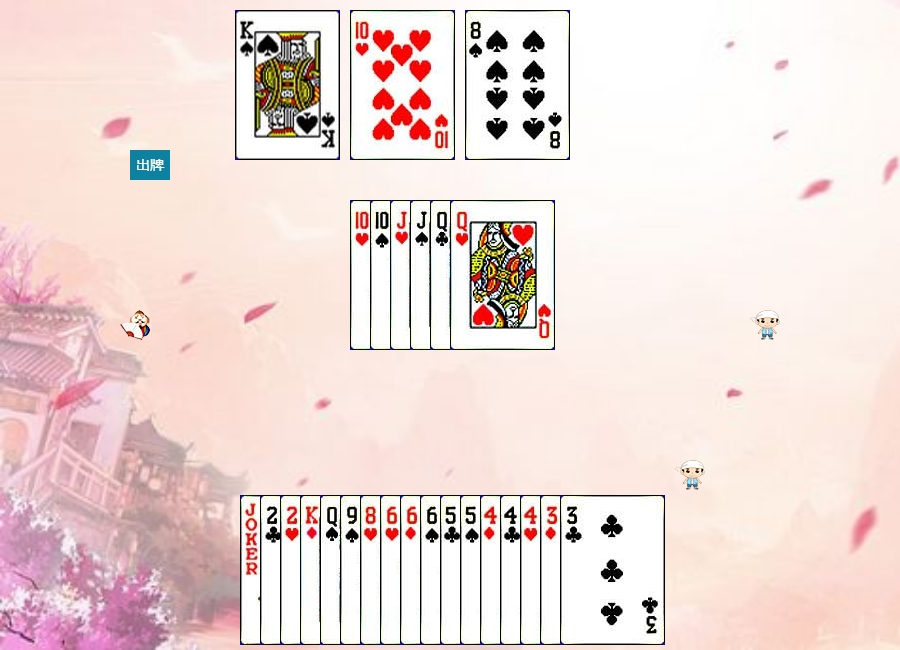10~3: (350, 10, 455, 160), (350, 200, 455, 350)
10~4: (370, 200, 475, 350)
11~3: (390, 200, 495, 350)
11~4: (410, 200, 515, 350)
12~2: (430, 200, 535, 350)
12~3: (450, 200, 555, 350)
12~4: (320, 495, 425, 645)
13~1: (300, 495, 405, 645)
13~4: (235, 10, 340, 160)
15~2: (260, 495, 365, 645)
15~3: (280, 495, 385, 645)
18~4: (240, 495, 345, 645)
3~1: (540, 495, 645, 645)
3~2: (560, 495, 665, 645)
4~1: (480, 495, 585, 645)
4~2: (500, 495, 605, 645)
4~3: (520, 495, 625, 645)
5~2: (440, 495, 545, 645)
5~4: (460, 495, 565, 645)
6~1: (400, 495, 505, 645)
6~3: (380, 495, 485, 645)
6~4: (420, 495, 525, 645)
8~3: (360, 495, 465, 645)
8~4: (465, 10, 570, 160)
9~4: (340, 495, 445, 645)
